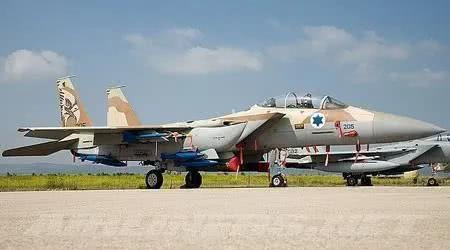airplane: (3, 73, 450, 190)
